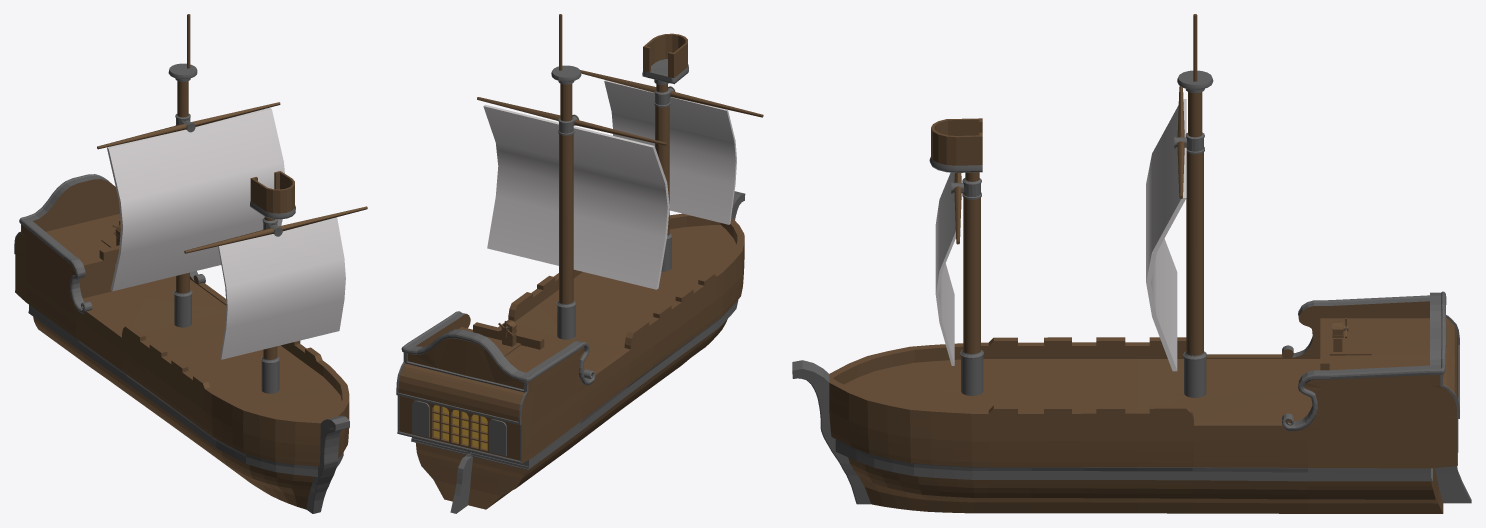
File: Player_Ship_v1.0.fbx
3 renders of one model, left to right at view 1: azimuth 30°, elevation 25°; view 2: azimuth 150°, elevation 25°; view 3: azimuth 270°, elevation 25°, orthographic. The views are drawn at different scales.
Parts seen in each view (by area): view 1: Player_Ship; view 2: Player_Ship; view 3: Player_Ship.
Part boxes in pixels (left/top/right/bottom): Player_Ship: left=14, top=14, right=367, bottom=513; Player_Ship: left=396, top=14, right=763, bottom=513; Player_Ship: left=792, top=14, right=1471, bottom=513.
Size of the model in its own units: 1815 by 3724 by 4661.
1 material, 1 textured.
